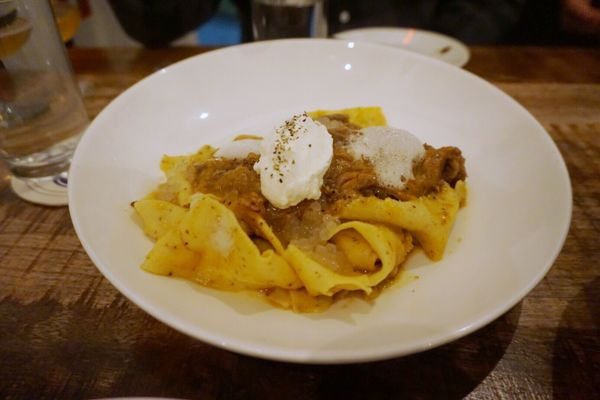pizza: (0, 1, 90, 205), (248, 0, 326, 41)
